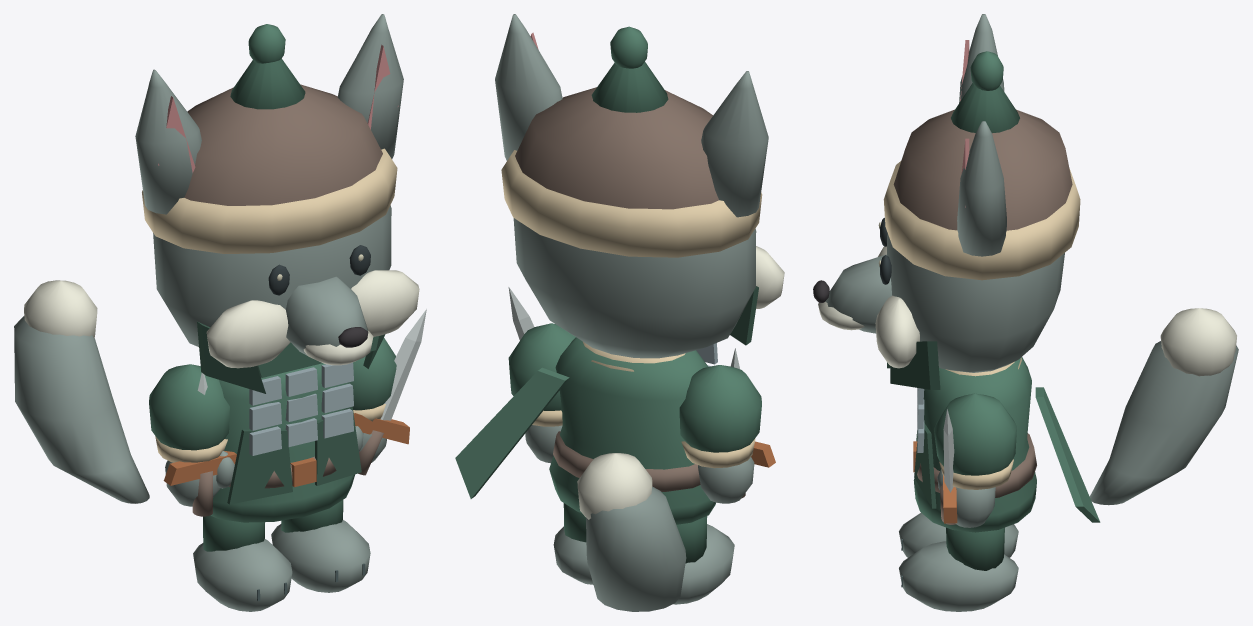
File: assassin.glb
3 views of the same model, side by side, from view 1: azimuth 30°, elevation 25°; view 2: azimuth 150°, elevation 25°; view 3: azimuth 270°, elevation 25° (orthographic). The views are drawn at different scales.
Parts seen in each view (by area): view 1: Regional helmet, Plush sweeping tail, Animal cheek head, Fur hat brim, Short folded tunic, Tall animal ear, Puff sleeve, Soft animal paw, Soft animal paw.001, Tall animal ear.001, Light cheek fluff, Long pointed muzzle (+28 smaller); view 2: Animal cheek head, Regional helmet, Short folded tunic, Fur hat brim, Plush sweeping tail, Tall animal ear, Puff sleeve, Tall animal ear.001, Long scarf tail, Tail pale tip, Puff sleeve.001, Mongol pointed cap (+14 smaller); view 3: Animal cheek head, Regional helmet, Plush sweeping tail, Fur hat brim, Short folded tunic, Soft animal paw.001, Puff sleeve.001, Tall animal ear.001, Tail pale tip, Long pointed muzzle, Light cheek fluff.001, Mongol pointed cap (+12 smaller).
Boxes of the visible parts, x1=… form: Regional helmet: x1=184, y1=84, x2=382, y2=205; Plush sweeping tail: x1=14, y1=316, x2=149, y2=503; Animal cheek head: x1=153, y1=205, x2=391, y2=346; Fur hat brim: x1=142, y1=148, x2=397, y2=253; Short folded tunic: x1=210, y1=363, x2=354, y2=522; Tall animal ear: x1=135, y1=69, x2=201, y2=214; Puff sleeve: x1=149, y1=364, x2=229, y2=450; Soft animal paw: x1=193, y1=539, x2=292, y2=611; Soft animal paw.001: x1=271, y1=520, x2=370, y2=592; Tall animal ear.001: x1=337, y1=14, x2=403, y2=158; Light cheek fluff: x1=206, y1=300, x2=290, y2=368; Long pointed muzzle: x1=286, y1=276, x2=367, y2=355; Animal cheek head: x1=513, y1=218, x2=756, y2=358; Regional helmet: x1=515, y1=87, x2=718, y2=209; Short folded tunic: x1=549, y1=337, x2=715, y2=524; Fur hat brim: x1=501, y1=150, x2=762, y2=257; Plush sweeping tail: x1=586, y1=486, x2=686, y2=611; Tall animal ear: x1=701, y1=71, x2=768, y2=217; Puff sleeve: x1=679, y1=365, x2=761, y2=452; Tall animal ear.001: x1=495, y1=14, x2=562, y2=160; Long scarf tail: x1=455, y1=367, x2=569, y2=498; Tail pale tip: x1=577, y1=453, x2=652, y2=519; Puff sleeve.001: x1=508, y1=323, x2=575, y2=410; Mongol pointed cap: x1=591, y1=62, x2=668, y2=112; Animal cheek head: x1=887, y1=233, x2=1064, y2=372; Regional helmet: x1=893, y1=109, x2=1072, y2=230; Plush sweeping tail: x1=1089, y1=341, x2=1238, y2=505; Fur hat brim: x1=883, y1=161, x2=1080, y2=280; Short folded tunic: x1=913, y1=357, x2=1036, y2=532; Soft animal paw.001: x1=899, y1=541, x2=1018, y2=611; Puff sleeve.001: x1=934, y1=393, x2=1016, y2=475; Tall animal ear.001: x1=957, y1=121, x2=1006, y2=256; Tail pale tip: x1=1160, y1=308, x2=1236, y2=376; Long pointed muzzle: x1=825, y1=254, x2=891, y2=333; Light cheek fluff.001: x1=875, y1=295, x2=919, y2=368; Mongol pointed cap: x1=951, y1=83, x2=1019, y2=133.
Size of the model in its own units: 0.9527 by 1.78 by 1.28.
